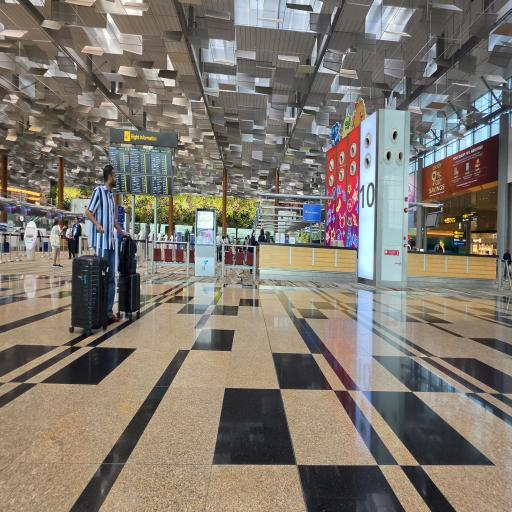person_right: (50, 202, 64, 268)
person_with_luggage_right: (76, 162, 142, 331)
